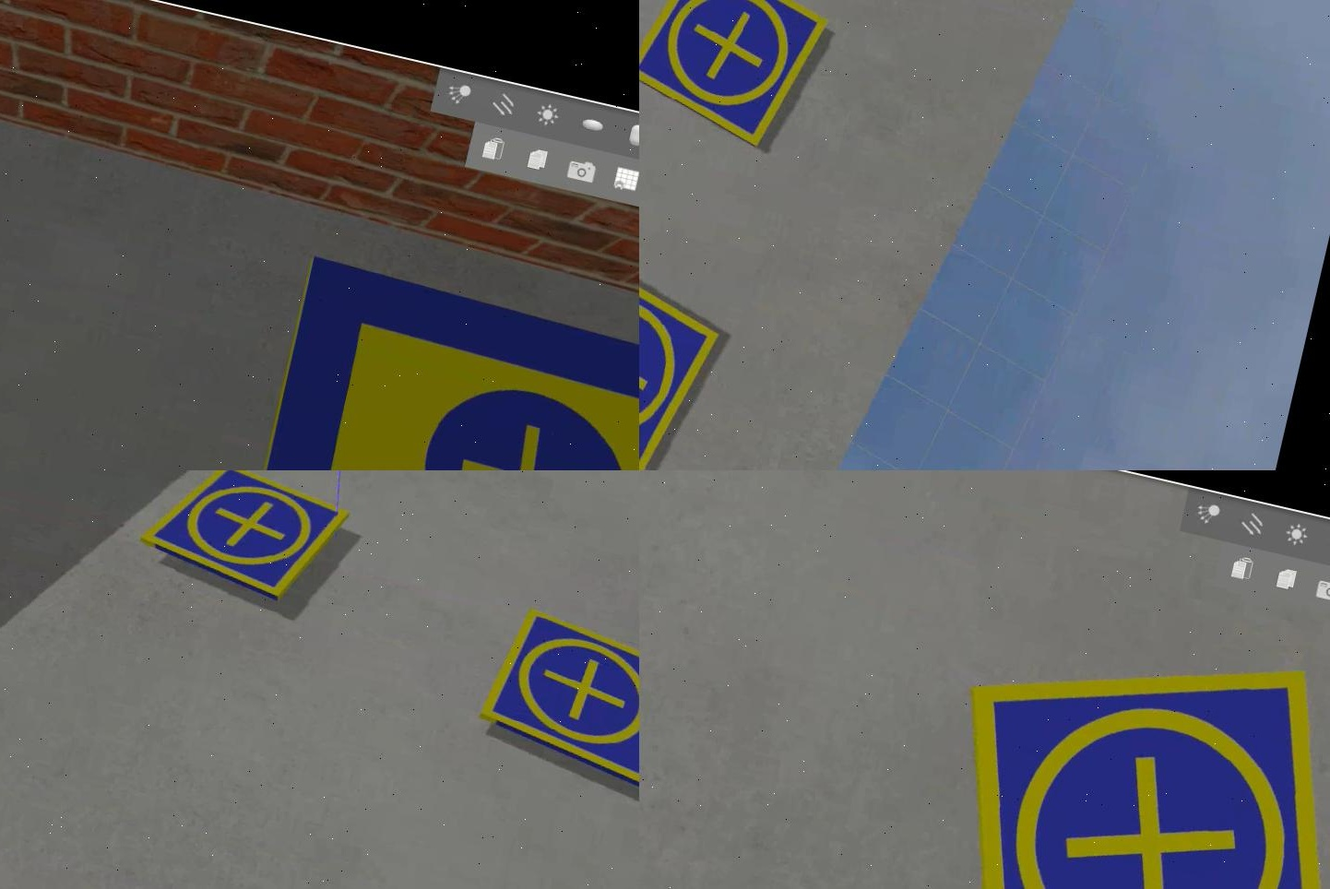large_base: (224, 251, 637, 471)
small_base: (897, 598, 1328, 889), (467, 605, 637, 794), (637, 1, 837, 155), (134, 471, 352, 609), (637, 245, 732, 471)
